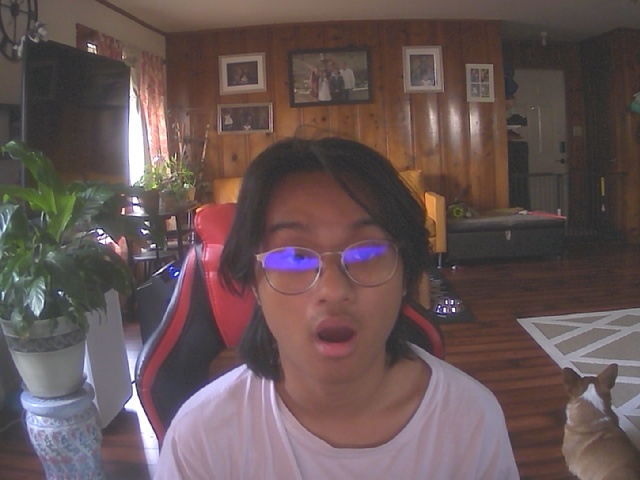fear: (242, 143, 415, 385)
